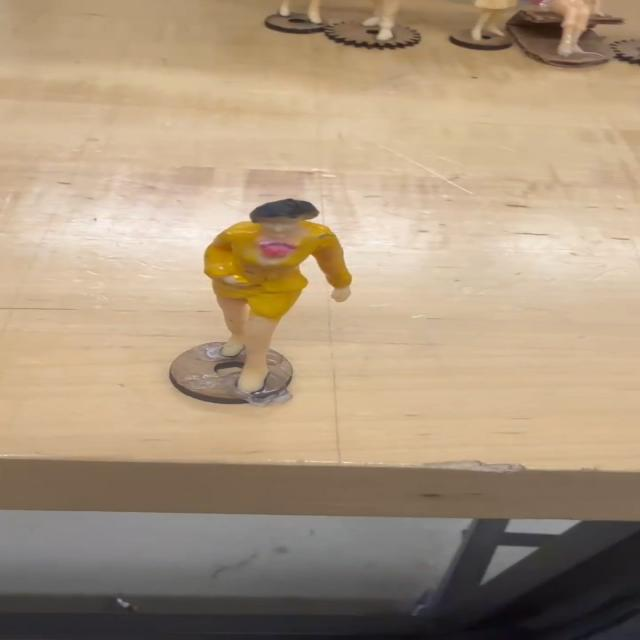Authorized: (202, 198, 358, 403)
